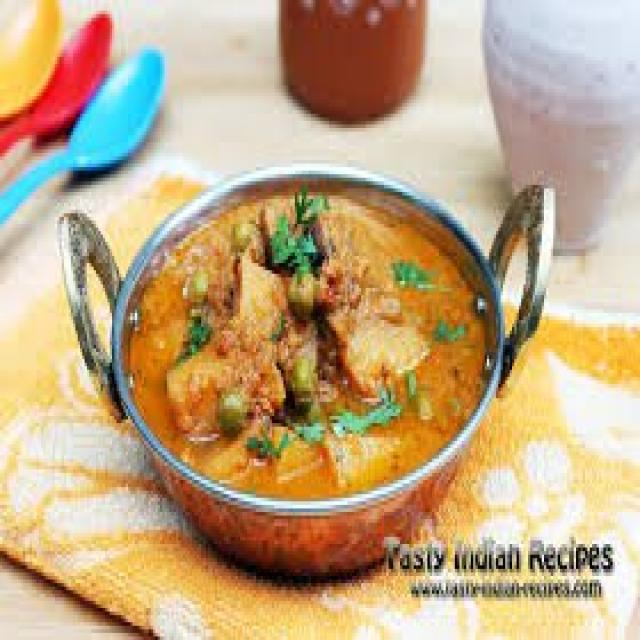aloo_matar: (121, 167, 495, 546)
